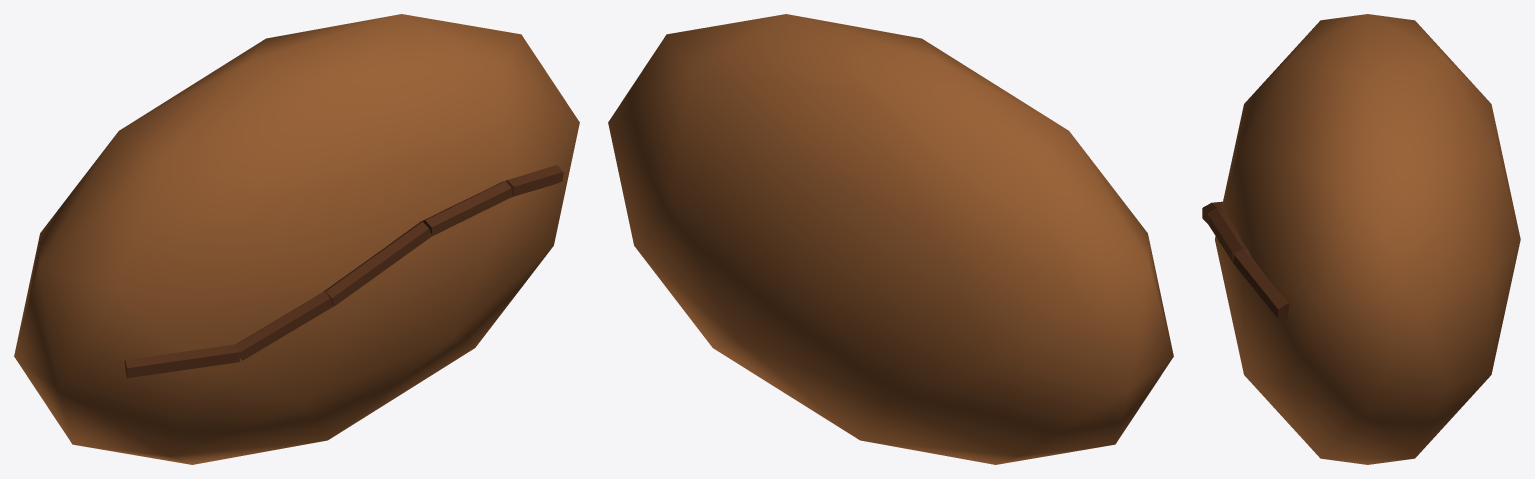
Rendered from coffee_planetoid_v2.glb.
The picture shows the model from 3 angles, left to right: view 1: azimuth 30°, elevation 25°; view 2: azimuth 150°, elevation 25°; view 3: azimuth 270°, elevation 25°; orthographic projection. The views are drawn at different scales.
Visible parts, largest first — view 1: coffee_planetoid_v2__orbit-coffee-roast, coffee_planetoid_v2__orbit-bean-groove; view 2: coffee_planetoid_v2__orbit-coffee-roast; view 3: coffee_planetoid_v2__orbit-coffee-roast, coffee_planetoid_v2__orbit-bean-groove.
Boxes of the visible parts, <box> form: coffee_planetoid_v2__orbit-coffee-roast: <box>14,14,579,464</box>; coffee_planetoid_v2__orbit-bean-groove: <box>124,165,563,378</box>; coffee_planetoid_v2__orbit-coffee-roast: <box>608,14,1173,464</box>; coffee_planetoid_v2__orbit-coffee-roast: <box>1215,14,1520,464</box>; coffee_planetoid_v2__orbit-bean-groove: <box>1202,201,1289,320</box>.
Size of the model in its own units: 23.96 by 17.57 by 11.94.
